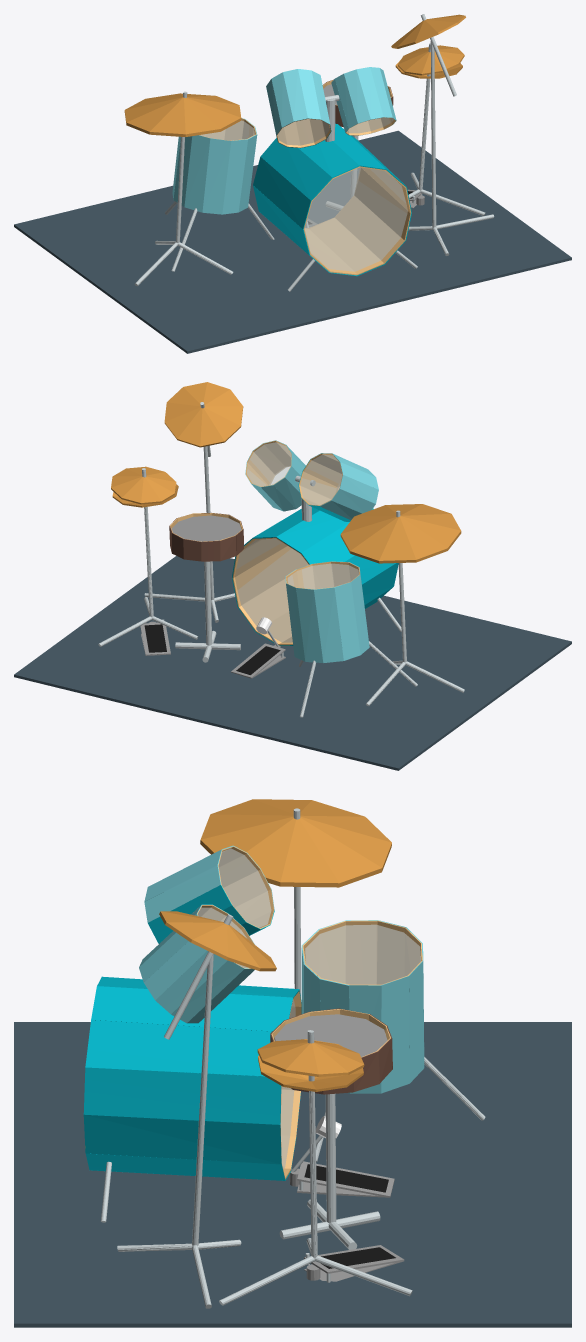
File: drums.fbx
The picture shows the model from 3 angles, top to bottom: view 1: azimuth 30°, elevation 25°; view 2: azimuth 150°, elevation 25°; view 3: azimuth 270°, elevation 25°; orthographic projection. The views are drawn at different scales.
Parts seen in each view (by area): view 1: group516436384, group887072338, group654266889, group370074410, group1478113385, group410413010, group706437995, group1557875796, group1375386455, group1694807479, group73174683, group28713638 (+14 smaller); view 2: group516436384, group370074410, group887072338, group1320678639, group654266889, group1478113385, group1694807479, group664528598, group1404238537, group722085133, group878792710, group282742422 (+16 smaller); view 3: group516436384, group370074410, group307779137, group350255547, group1038593656, group654266889, group1478113385, group1564768936, group1533848445, group664528598, group1320678639, group1451281793 (+21 smaller).
Boxes of the visible parts, x1,y1,x2,y2 form: group516436384: [14, 130, 571, 353]; group887072338: [304, 167, 407, 271]; group654266889: [266, 69, 331, 148]; group370074410: [124, 93, 241, 136]; group1478113385: [331, 67, 396, 135]; group410413010: [334, 196, 404, 263]; group706437995: [260, 138, 332, 200]; group1557875796: [253, 157, 311, 229]; group1375386455: [309, 218, 384, 274]; group1694807479: [354, 167, 410, 240]; group73174683: [202, 138, 231, 214]; group28713638: [184, 135, 210, 212]; group516436384: [14, 556, 571, 770]; group370074410: [340, 504, 461, 563]; group887072338: [235, 538, 308, 642]; group1320678639: [164, 382, 243, 456]; group654266889: [298, 453, 378, 521]; group1478113385: [245, 440, 305, 511]; group1694807479: [232, 546, 307, 606]; group664528598: [98, 468, 198, 655]; group1404238537: [111, 466, 176, 504]; group722085133: [314, 587, 343, 662]; group878792710: [276, 510, 349, 553]; group282742422: [171, 515, 241, 541]; group516436384: [14, 1022, 571, 1327]; group370074410: [200, 799, 391, 887]; group307779137: [83, 1067, 281, 1124]; group350255547: [85, 1020, 271, 1076]; group1038593656: [83, 1114, 281, 1164]; group654266889: [144, 845, 274, 943]; group1478113385: [139, 904, 254, 1023]; group1564768936: [305, 924, 420, 984]; group1533848445: [91, 986, 293, 1031]; group664528598: [219, 1030, 412, 1305]; group1320678639: [159, 911, 276, 1039]; group1451281793: [86, 1153, 285, 1180].
Bounding box in the file's own units: 160 × 87.2 × 125.
